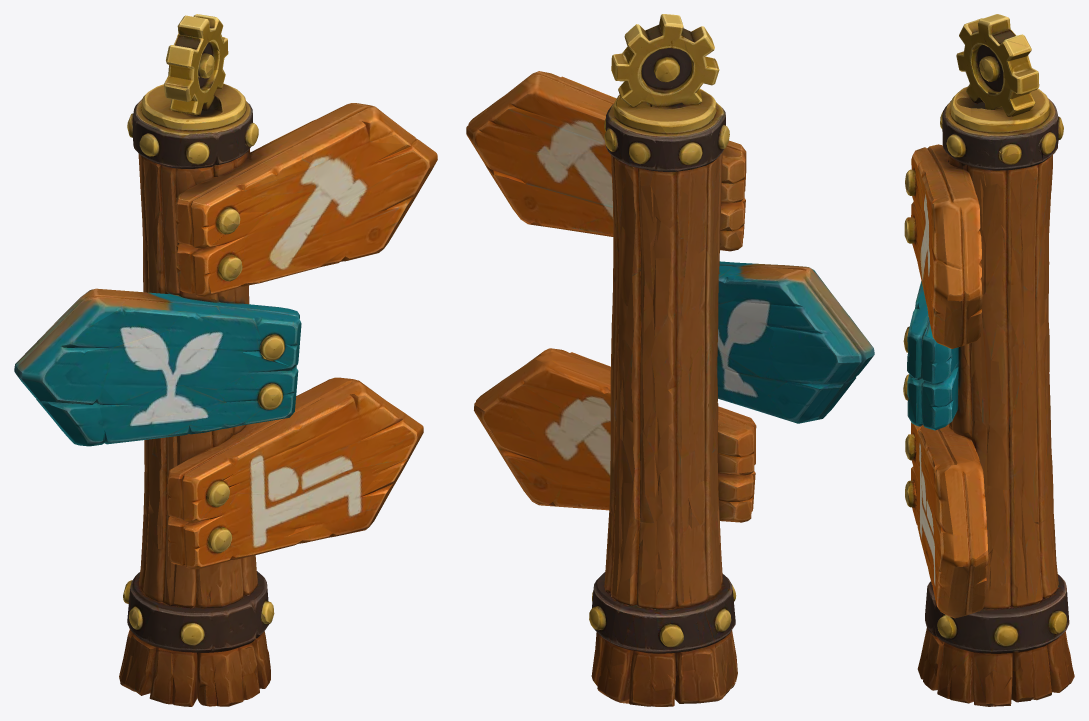
Rendered from shelter_signpost.glb.
3 renders of one model, left to right at view 1: azimuth 30°, elevation 25°; view 2: azimuth 150°, elevation 25°; view 3: azimuth 270°, elevation 25°, orthographic.
Visible parts, largest first — view 1: output_unwrapped; view 2: output_unwrapped; view 3: output_unwrapped.
Boxes of the visible parts, left/top/right/bottom form: output_unwrapped: left=14, top=14, right=437, bottom=706; output_unwrapped: left=466, top=14, right=874, bottom=706; output_unwrapped: left=903, top=14, right=1074, bottom=706.
Size of the model in its own units: 1.24 by 1.9 by 0.4508.
Materials: 1 (1 with a texture image).
